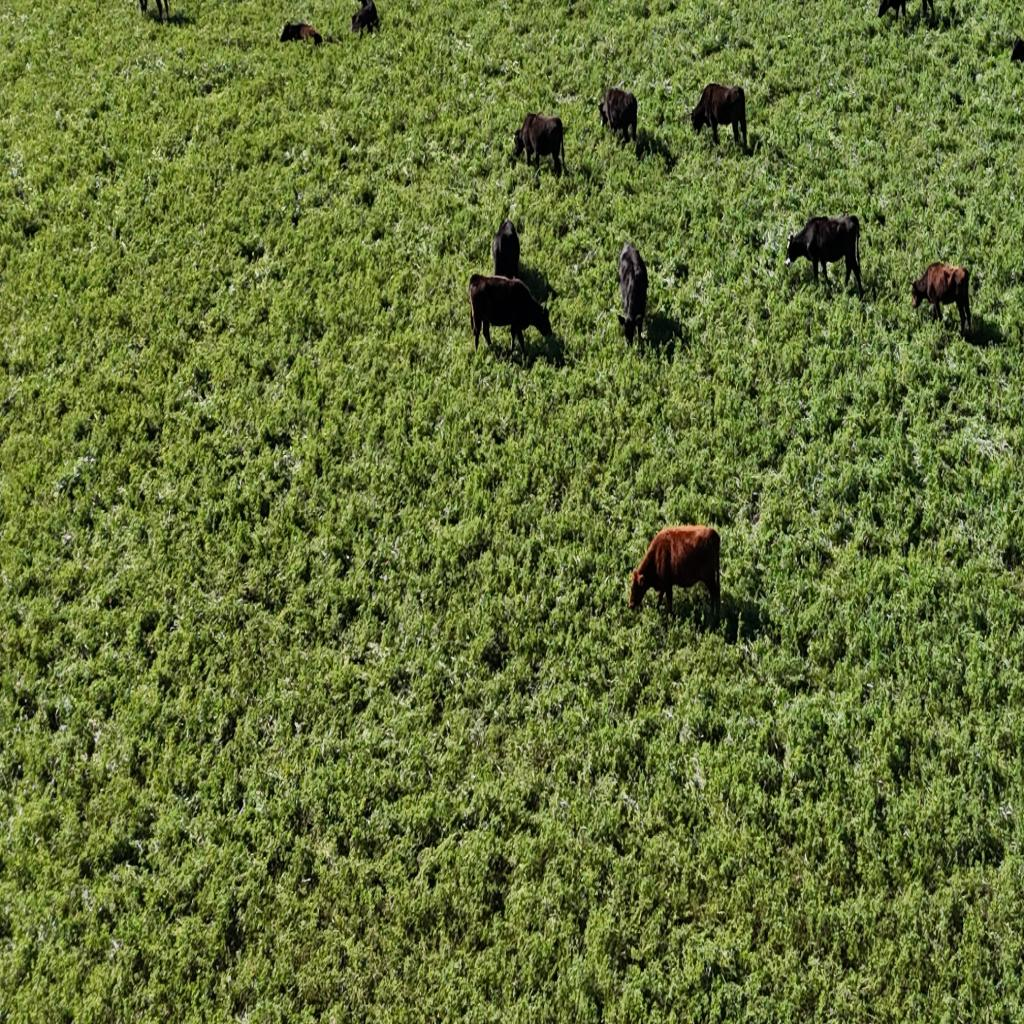cow: (625, 520, 722, 622), (468, 272, 552, 364), (783, 215, 862, 294), (909, 257, 977, 340), (687, 80, 748, 150), (511, 110, 566, 178), (616, 238, 648, 348), (600, 83, 644, 151), (492, 218, 520, 283), (278, 22, 323, 48), (350, 0, 379, 37), (135, 1, 175, 25), (877, 0, 909, 24), (919, 0, 936, 28)
